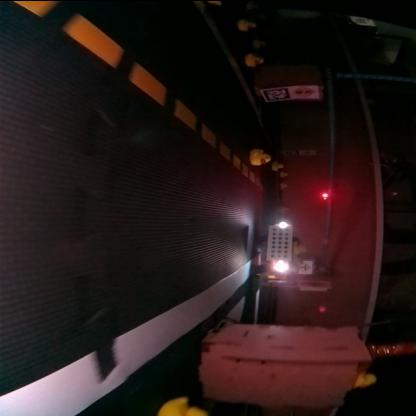Duckie: (160, 396, 208, 414), (356, 372, 377, 386), (245, 52, 263, 66), (252, 150, 271, 163), (240, 18, 258, 29), (276, 162, 284, 168), (280, 180, 287, 186)
Duckiebot: (256, 222, 294, 282)
QR code: (264, 86, 292, 101)
Signal sign: (294, 83, 320, 98)
Traffic light: (323, 190, 332, 198)
